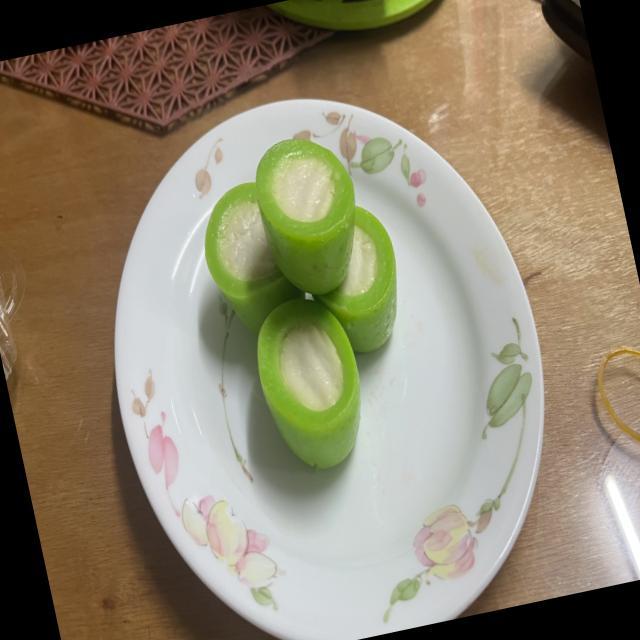nona-manis: (257, 297, 360, 468), (255, 137, 355, 295), (205, 182, 304, 334), (314, 205, 397, 352)
